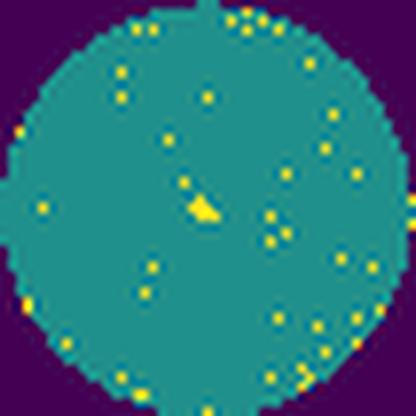Center: (188, 196, 224, 225)
